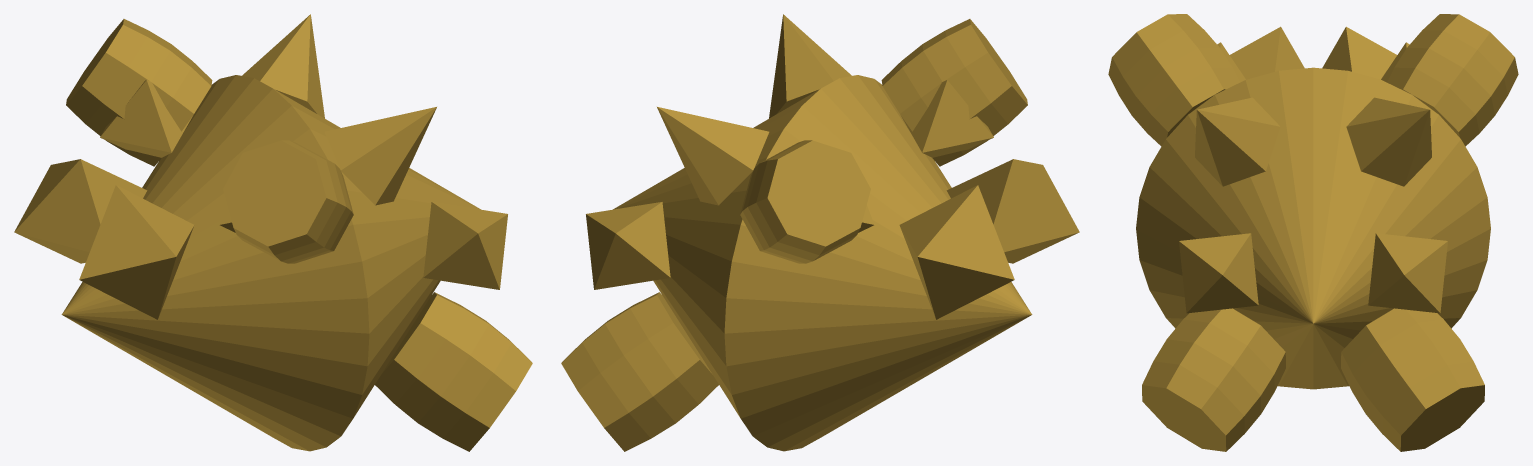
The model's file is exp2_spindle_sym_04.glb.
3 views of the same model, side by side, from view 1: azimuth 30°, elevation 25°; view 2: azimuth 150°, elevation 25°; view 3: azimuth 270°, elevation 25° (orthographic). The views are drawn at different scales.
Visible parts, largest first — view 1: exp2_spindle_sym_04; view 2: exp2_spindle_sym_04; view 3: exp2_spindle_sym_04.
Boxes of the visible parts, <box> form: exp2_spindle_sym_04: <box>14,14,532,451</box>; exp2_spindle_sym_04: <box>561,14,1079,451</box>; exp2_spindle_sym_04: <box>1108,14,1518,451</box>.
Bounding box in the file's own units: 1.71 × 1.39 × 1.5.
